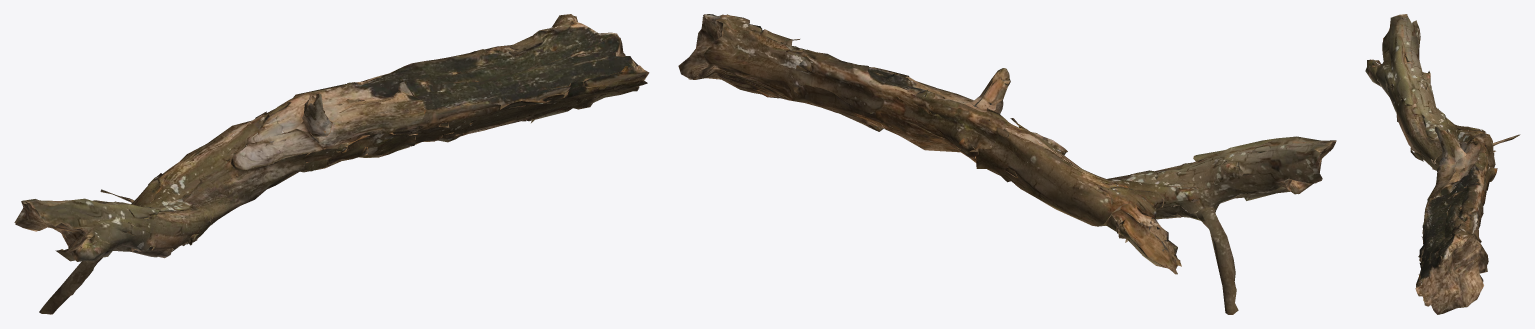
The model's file is driftwood.glb.
The picture shows the model from 3 angles, left to right: view 1: azimuth 30°, elevation 25°; view 2: azimuth 150°, elevation 25°; view 3: azimuth 270°, elevation 25°; orthographic projection. The views are drawn at different scales.
Parts seen in each view (by area): view 1: v0_lod0; view 2: v0_lod0; view 3: v0_lod0.
Part boxes in pixels (left/top/right/bottom): v0_lod0: left=14, top=14, right=649, bottom=314; v0_lod0: left=678, top=14, right=1336, bottom=314; v0_lod0: left=1365, top=14, right=1520, bottom=314.
Size of what is drawn, in the model's own units: 1 by 0.2608 by 0.2583.
1 material, 1 textured.
